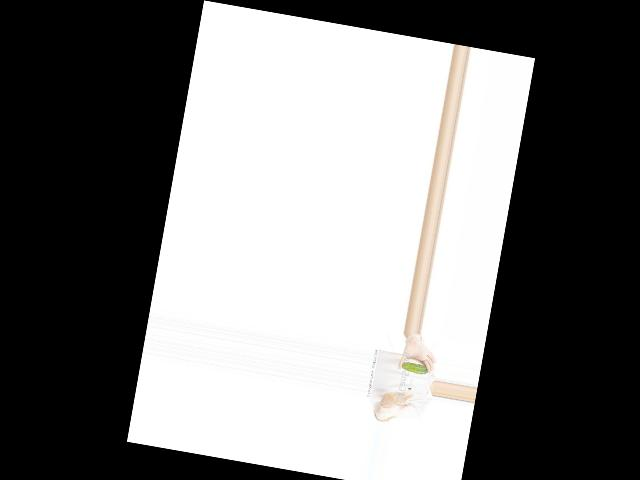cucumber: (400, 360, 429, 374)
